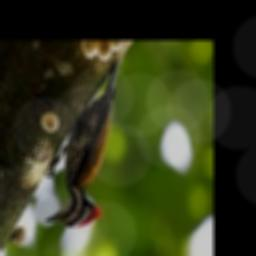Woodpecker: (44, 56, 122, 227)
